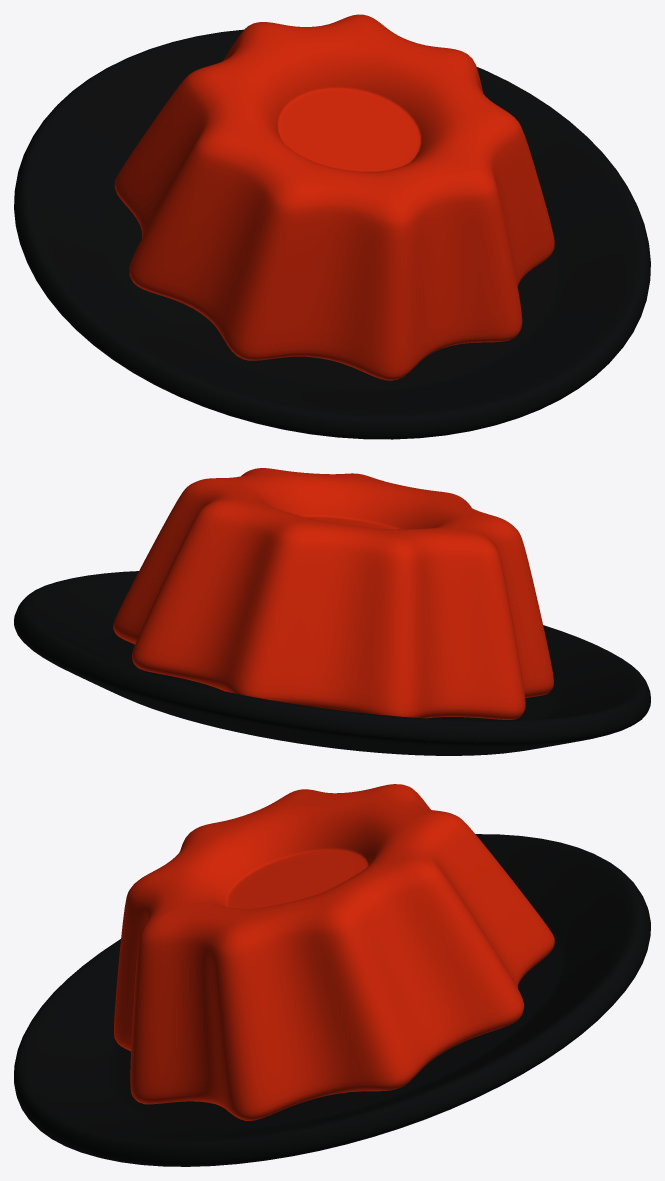
File: Jelly.obj
3 views of the same model, one above another, from view 1: azimuth 30°, elevation 25°; view 2: azimuth 150°, elevation 25°; view 3: azimuth 270°, elevation 25° (orthographic). The views are drawn at different scales.
Parts seen in each view (by area): view 1: Jelly__Circle.012, Jelly_.001_Circle.013; view 2: Jelly__Circle.012, Jelly_.001_Circle.013; view 3: Jelly__Circle.012, Jelly_.001_Circle.013.
Boxes of the visible parts, box(x1,y1,x2,y2) form: Jelly__Circle.012: box(114, 14, 554, 380); Jelly_.001_Circle.013: box(14, 29, 650, 439); Jelly__Circle.012: box(113, 468, 553, 719); Jelly_.001_Circle.013: box(14, 571, 650, 755); Jelly__Circle.012: box(114, 784, 554, 1120); Jelly_.001_Circle.013: box(14, 834, 650, 1166).
Bounding box in the file's own units: 8.9 × 4.07 × 8.62.
